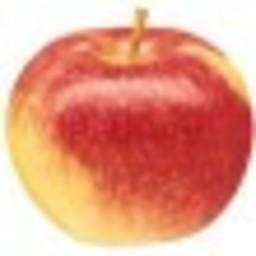apple: (4, 19, 255, 250)
